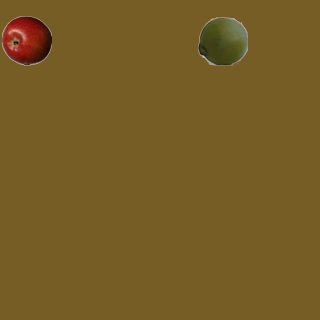Apple Braeburn: (1, 15, 51, 65)
Grape White 4: (197, 15, 247, 65)
